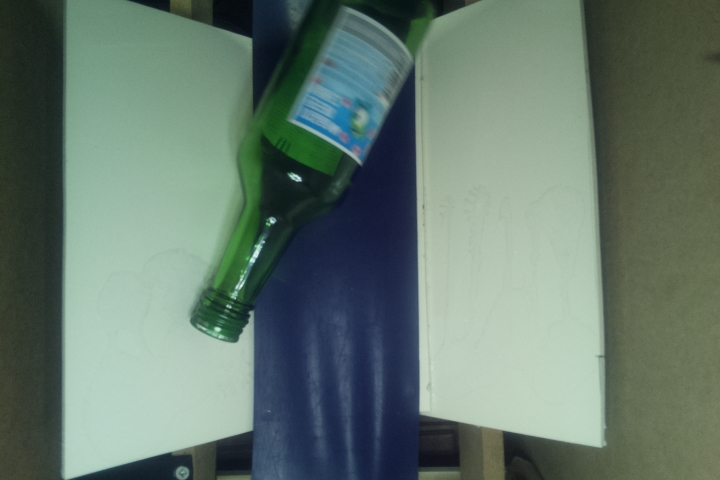soju: (190, 1, 443, 351)
